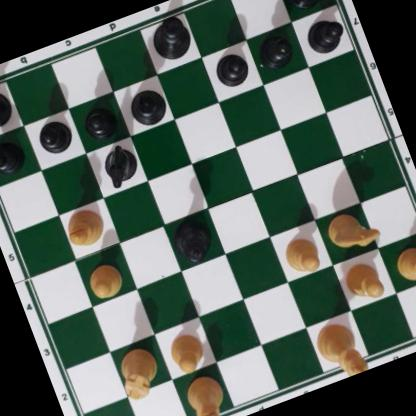black-bishop: (122, 82, 172, 132)
black-king: (143, 10, 198, 66)
black-knight: (93, 139, 144, 192)
black-pawn: (301, 12, 348, 58), (209, 45, 252, 90), (253, 29, 297, 72), (33, 115, 75, 158), (79, 100, 121, 143), (0, 135, 27, 177)
black-queen: (165, 213, 218, 269)
black-rook: (0, 80, 16, 137), (280, 0, 338, 13)
white-bishop: (180, 368, 233, 416), (60, 204, 108, 252)
white-king: (310, 315, 371, 384)
white-knight: (321, 202, 383, 257)
white-pawn: (339, 255, 389, 308), (164, 328, 210, 378), (279, 232, 323, 278), (83, 259, 127, 304), (391, 240, 416, 290)
white-rook: (111, 344, 166, 404)
